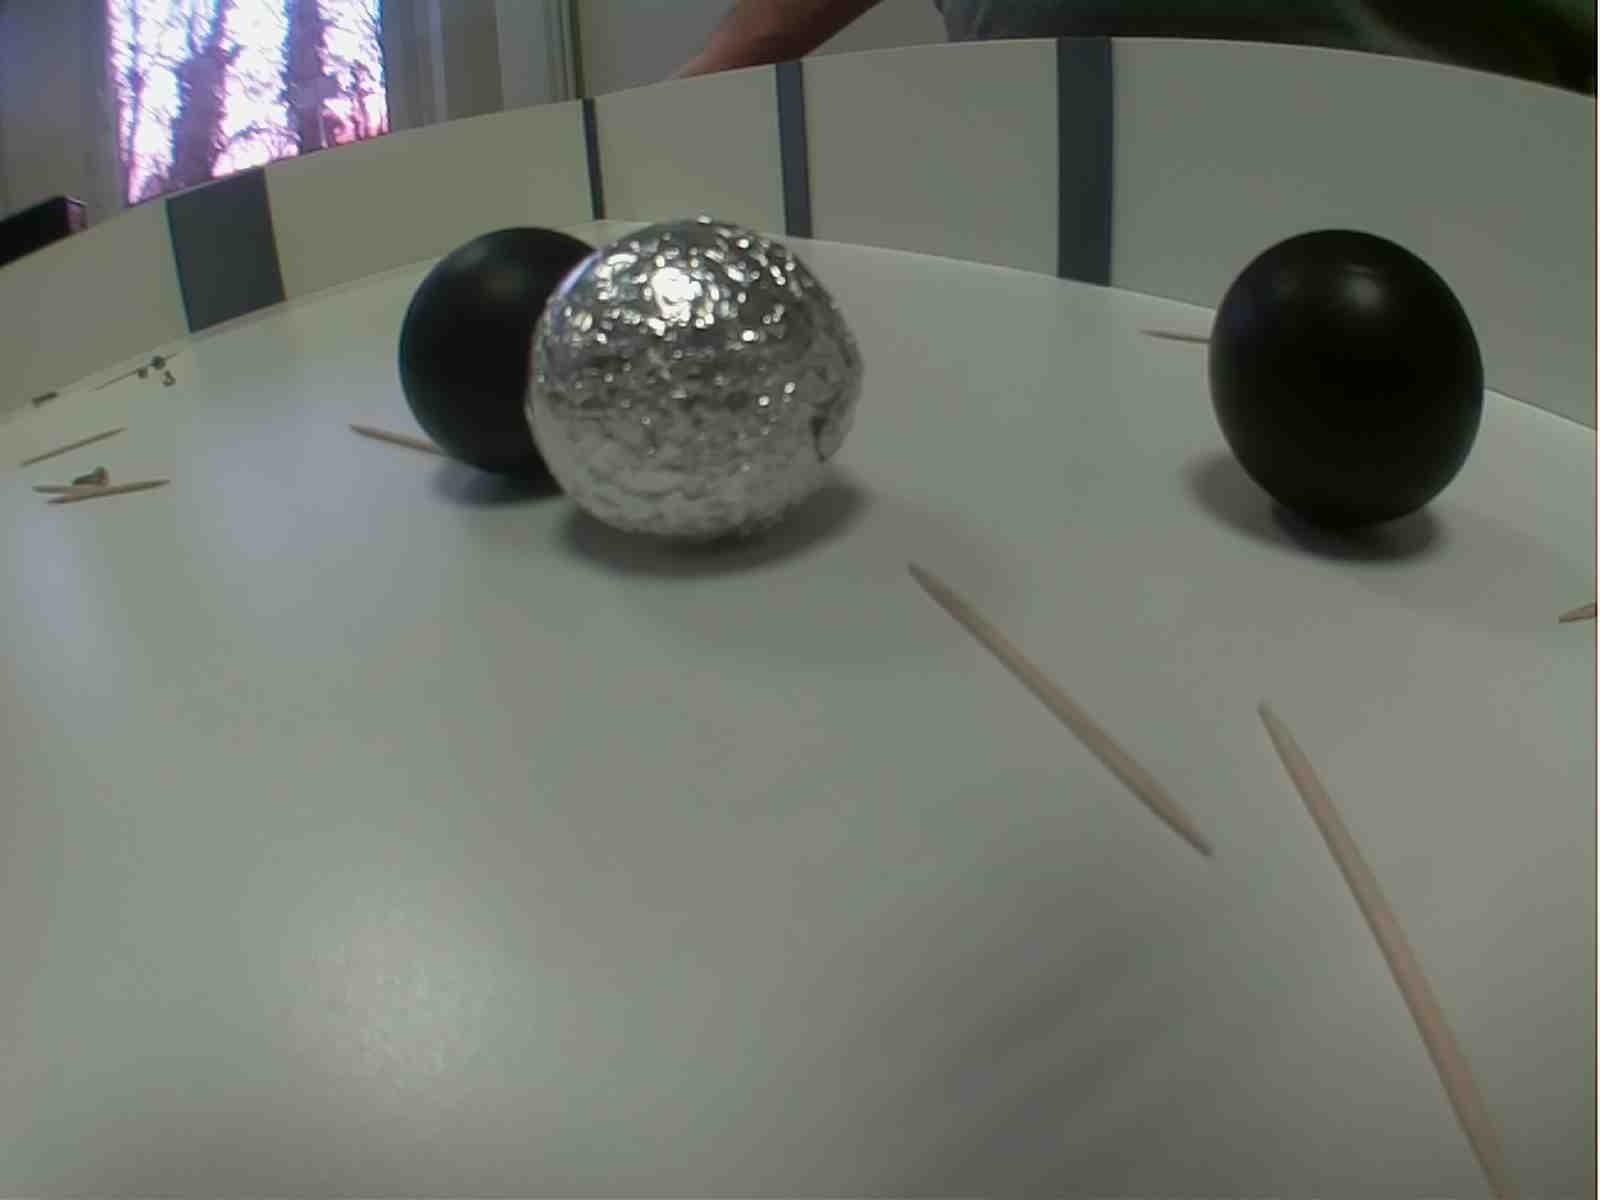bianca: (529, 212, 873, 539)
nera: (1209, 224, 1483, 537), (398, 219, 617, 492)
